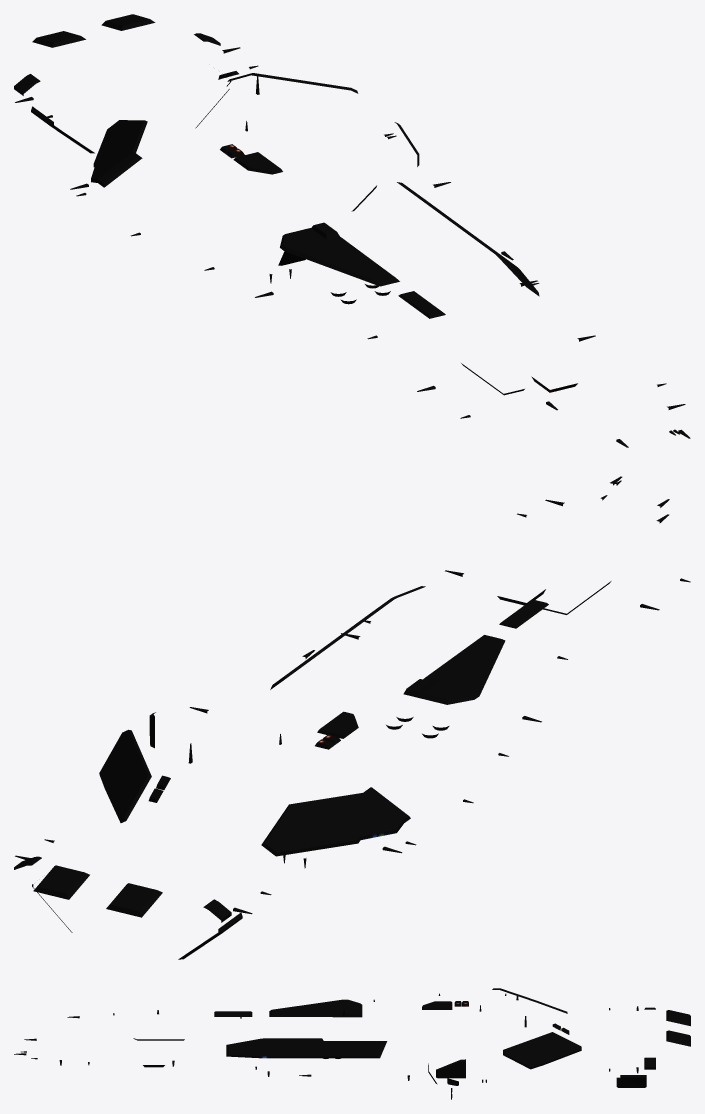
File: hgn_fs_expl_04.glb
3 views of the same model, one above another, from view 1: azimuth 30°, elevation 25°; view 2: azimuth 150°, elevation 25°; view 3: azimuth 270°, elevation 25° (orthographic). The views are drawn at different scales.
Parts seen in each view (by area): view 1: hgn_flagship_explorer_04_LOD0; view 2: hgn_flagship_explorer_04_LOD0; view 3: hgn_flagship_explorer_04_LOD0.
Part boxes in pixels (box(x1,y1,x2,y2)): hgn_flagship_explorer_04_LOD0: box(14, 14, 690, 447); hgn_flagship_explorer_04_LOD0: box(14, 476, 690, 959); hgn_flagship_explorer_04_LOD0: box(14, 988, 690, 1099).
Size of what is drawn, in the model's own units: 6.2 by 2.98 by 19.83.
Materials: 1 (1 with a texture image).
